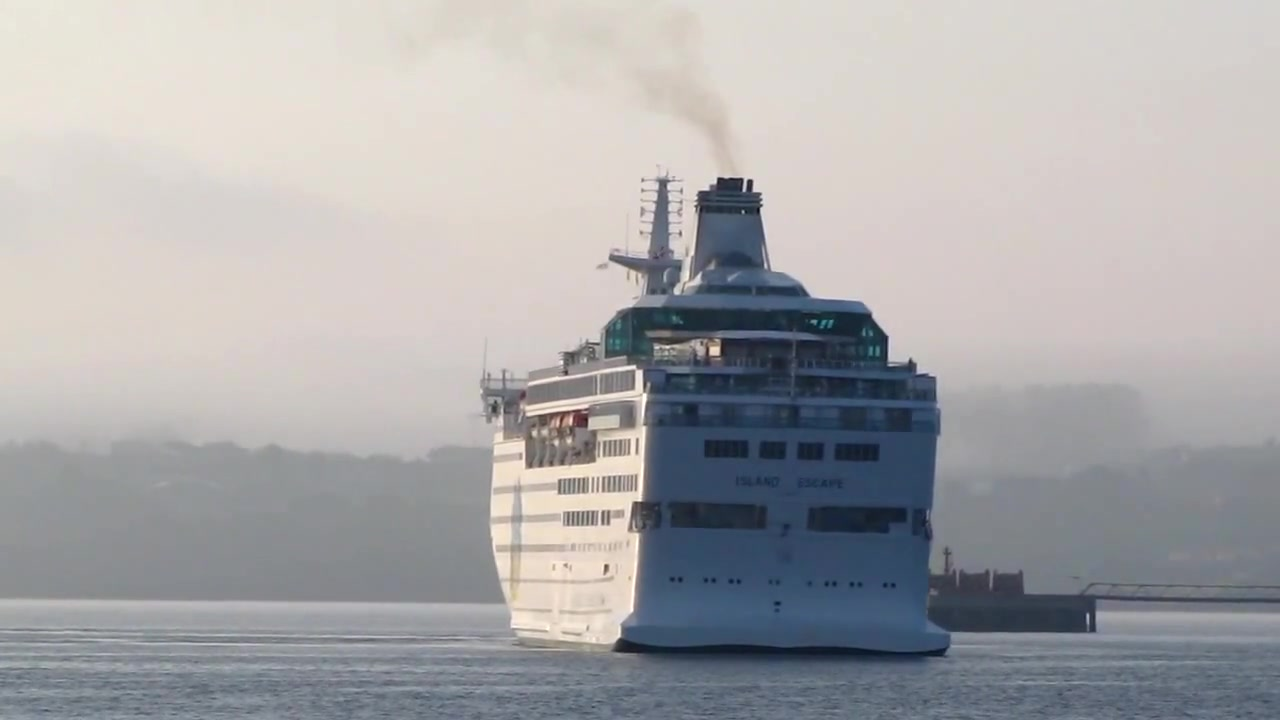boat: (478, 164, 955, 662)
